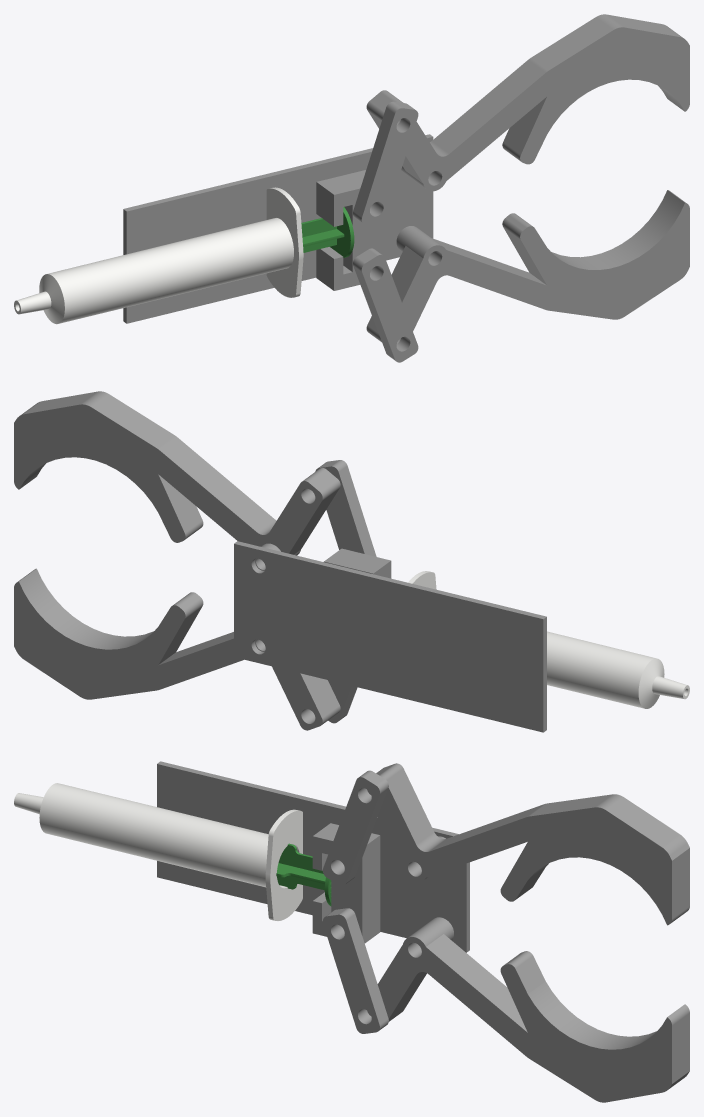
File: Grappin.fbx
3 renders of one model, top to bottom at view 1: azimuth 30°, elevation 25°; view 2: azimuth 150°, elevation 25°; view 3: azimuth 330°, elevation 25°, orthographic.
Parts seen in each view (by area): view 1: pince 1, pince 2, Body, support bas, attache srg, liaison 2, liaison 1, Plunger; view 2: support bas, pince 1, pince 2, Body, liaison 2, attache srg, liaison 1; view 3: pince 2, pince 1, support bas, Body, attache srg, liaison 1, liaison 2, Plunger.
Boxes of the visible parts, bbox=[...] form: pince 1: bbox=[366, 14, 689, 191]; pince 2: bbox=[366, 190, 689, 343]; Body: bbox=[14, 187, 303, 324]; support bas: bbox=[123, 134, 433, 323]; attache srg: bbox=[316, 170, 383, 290]; liaison 2: bbox=[353, 101, 418, 226]; liaison 1: bbox=[353, 248, 418, 362]; Plunger: bbox=[301, 207, 354, 257]; support bas: bbox=[234, 541, 546, 732]; pince 1: bbox=[14, 391, 340, 570]; pince 2: bbox=[14, 568, 340, 730]; Body: bbox=[408, 571, 689, 708]; liaison 2: bbox=[315, 460, 376, 556]; attache srg: bbox=[324, 548, 391, 578]; liaison 1: bbox=[328, 680, 357, 723]; pince 2: bbox=[367, 917, 689, 1102]; pince 1: bbox=[367, 763, 689, 925]; support bas: bbox=[157, 761, 469, 952]; Body: bbox=[14, 783, 302, 920]; attache srg: bbox=[312, 823, 380, 943]; liaison 1: bbox=[322, 908, 388, 1033]; liaison 2: bbox=[322, 770, 388, 885]; Plunger: bbox=[276, 843, 331, 906].
Bounding box in the file's own units: 215 × 90.91 × 22.
